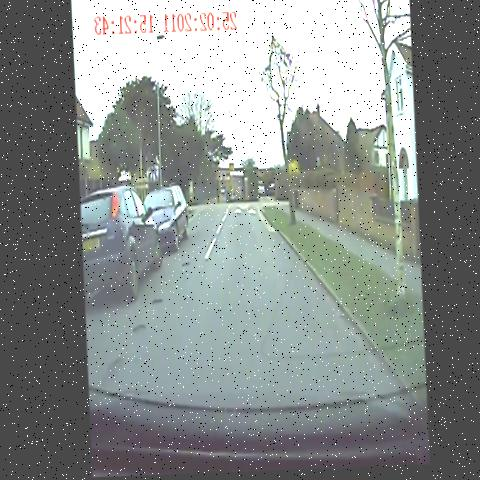pothole: (103, 349, 128, 389), (126, 313, 149, 348), (143, 290, 166, 321), (174, 250, 189, 278)
